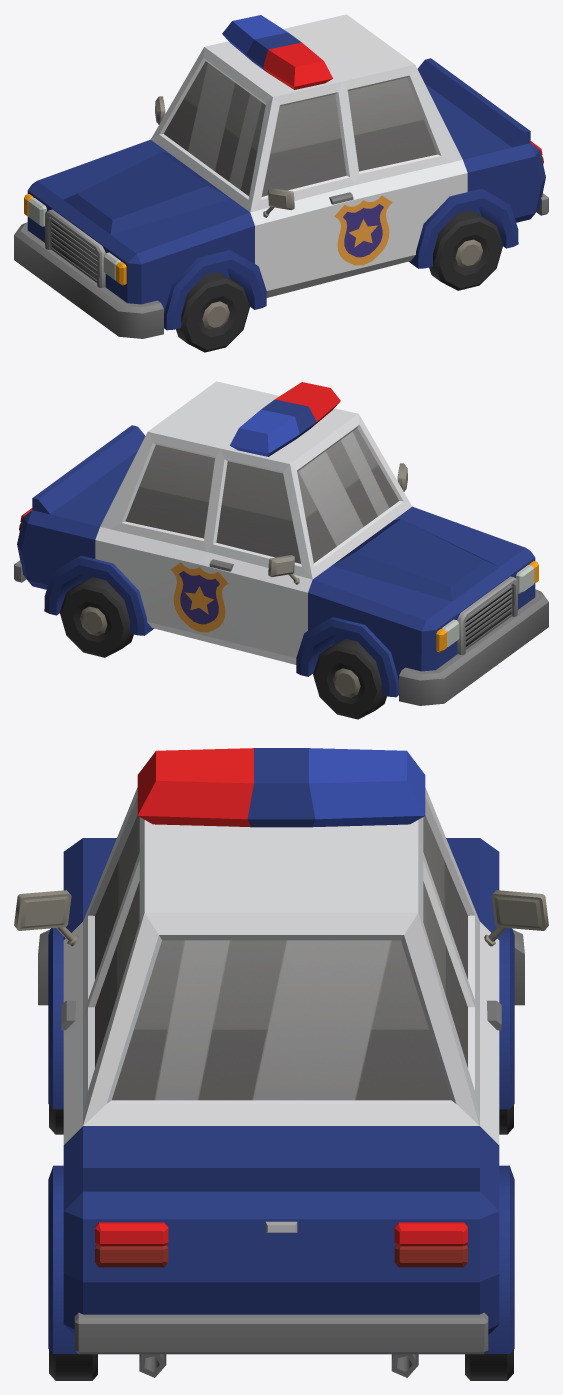
The model's file is Car_Police_2_B_1.gltf.
3 renders of one model, top to bottom at view 1: azimuth 30°, elevation 25°; view 2: azimuth 150°, elevation 25°; view 3: azimuth 270°, elevation 25°, orthographic. The views are drawn at different scales.
Visible parts, largest first — view 1: Car_Police_2_B_1, RL, FL; view 2: Car_Police_2_B_1, RR, FR; view 3: Car_Police_2_B_1, RL, RR.
Part boxes in pixels (box(x1,y1,x2,y2)): Car_Police_2_B_1: box(14, 14, 548, 338); RL: box(429, 210, 503, 290); FL: box(176, 272, 249, 352); Car_Police_2_B_1: box(14, 381, 548, 705); RR: box(59, 577, 133, 657); FR: box(313, 639, 386, 719); Car_Police_2_B_1: box(14, 748, 548, 1377); RL: box(49, 1349, 97, 1380); RR: box(465, 1349, 513, 1380).
Bounding box in the file's own units: 3.31 × 1.75 × 1.78.
3 materials, 3 textured.
